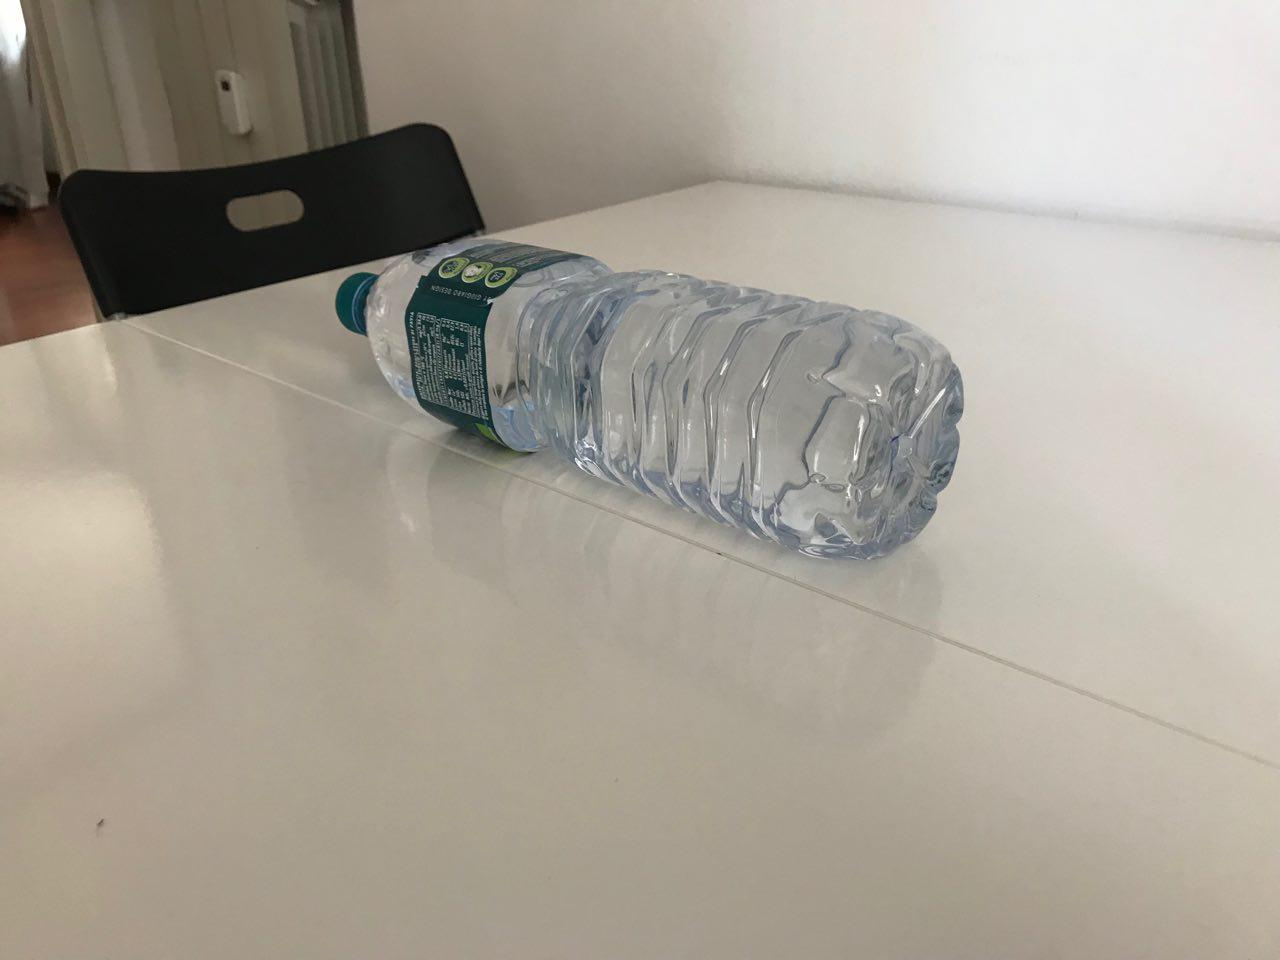san_bernardo: (334, 236, 965, 564)
